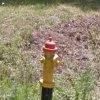Hydrant: (36, 30, 64, 96)
